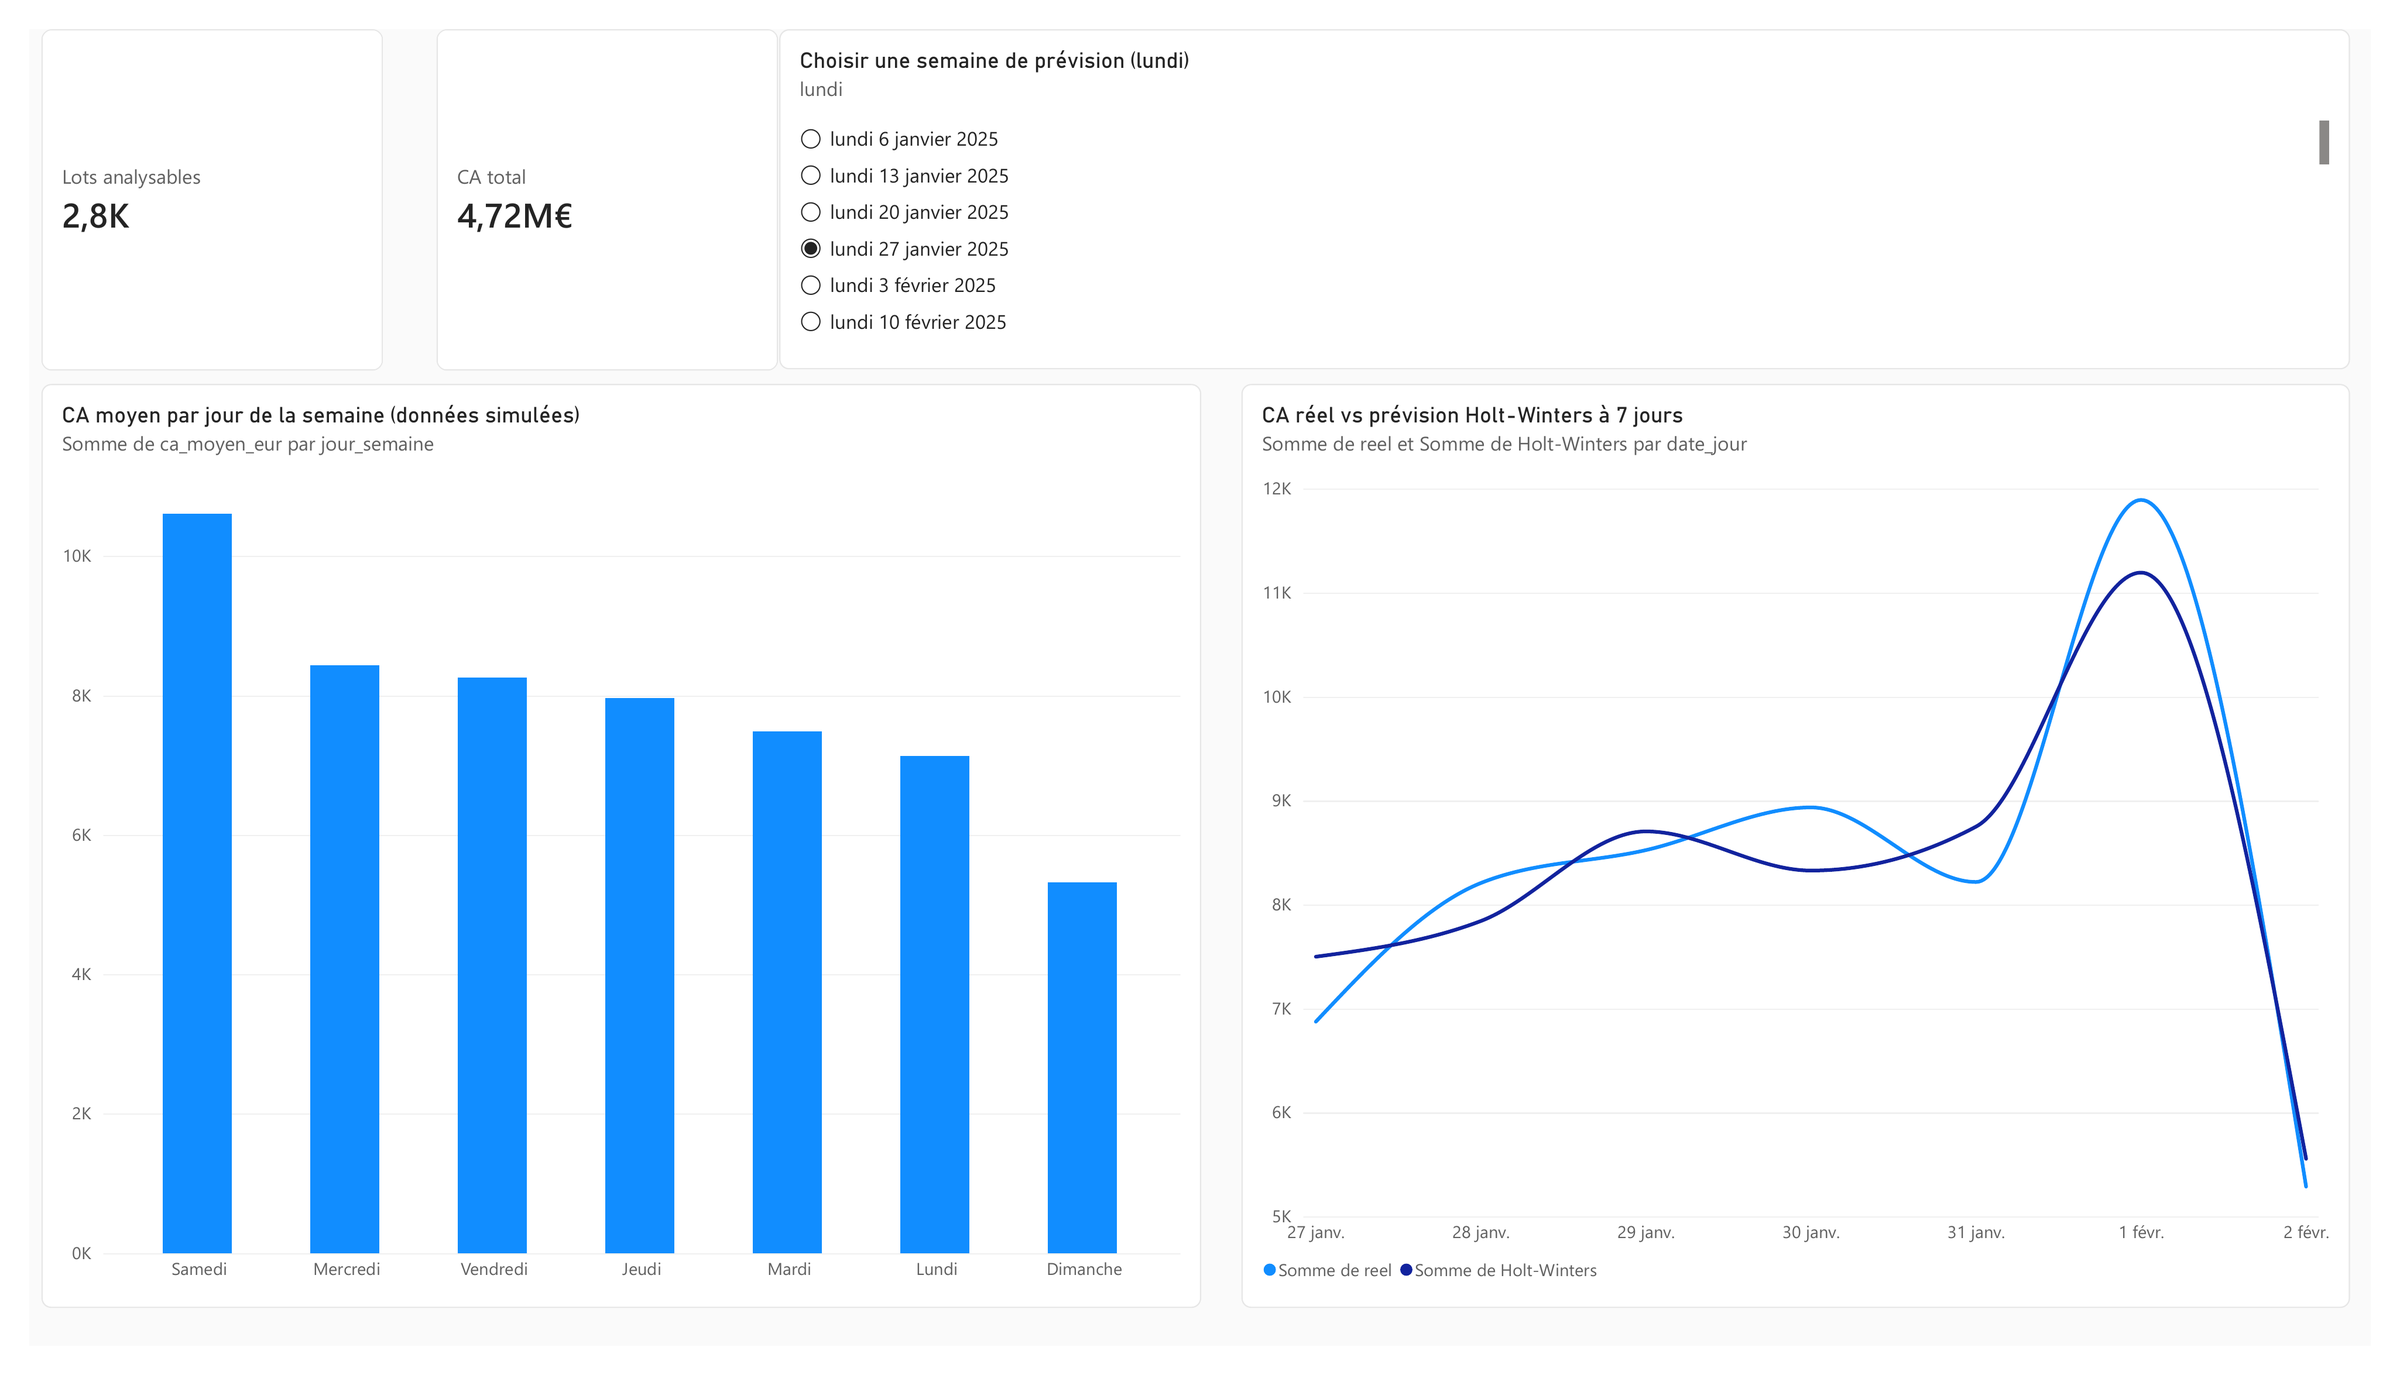

What the dashboard file says about the page in this screenshot:
{"tool":"powerbi","page":{"name":"Capacity planning","canvas":[1920,1080],"ordinal":1},"visuals":[{"type":"cardVisual","fields":{"Data":["_Mesures.Lots analysables"]},"box":[10,0,280,280],"z":0},{"type":"cardVisual","fields":{"Data":["_Mesures.CA total"]},"box":[333.8,0,280,280],"z":1},{"type":"clusteredColumnChart","title":"CA moyen par jour de la semaine (données simulées)","fields":{"Category":["public v_ca_jour_semaine.jour_semaine"],"Y":["Sum(public v_ca_jour_semaine.ca_moyen_eur)"]},"box":[9.5,290.9,951.3,758.1],"z":2},{"type":"lineChart","title":"CA réel vs prévision Holt-Winters à 7 jours","fields":{"Category":["previsions_7j.date_jour"],"Y":["Sum(previsions_7j.reel)","Sum(previsions_7j.Holt-Winters)"]},"box":[994.2,290.9,908.3,758.1],"z":3},{"type":"listSlicer","title":"Choisir une semaine de prévision (lundi)","fields":{"Values":["previsions_7j.lundi"]},"box":[615.1,0,1287.4,278.9],"z":4}]}

Visuals, with their boxes in screenshot pixels (x1, y1, x2, y2), scaled from the page's 1920x1080 canvas onto the 2400x1375 screenshot:
cardVisual - _Mesures.Lots analysables: rect(12, 0, 362, 356)
cardVisual - _Mesures.CA total: rect(417, 0, 767, 356)
"CA moyen par jour de la semaine (données simulées)" clusteredColumnChart: rect(12, 370, 1201, 1336)
"CA réel vs prévision Holt-Winters à 7 jours" lineChart: rect(1243, 370, 2378, 1336)
"Choisir une semaine de prévision (lundi)" listSlicer: rect(769, 0, 2378, 355)
